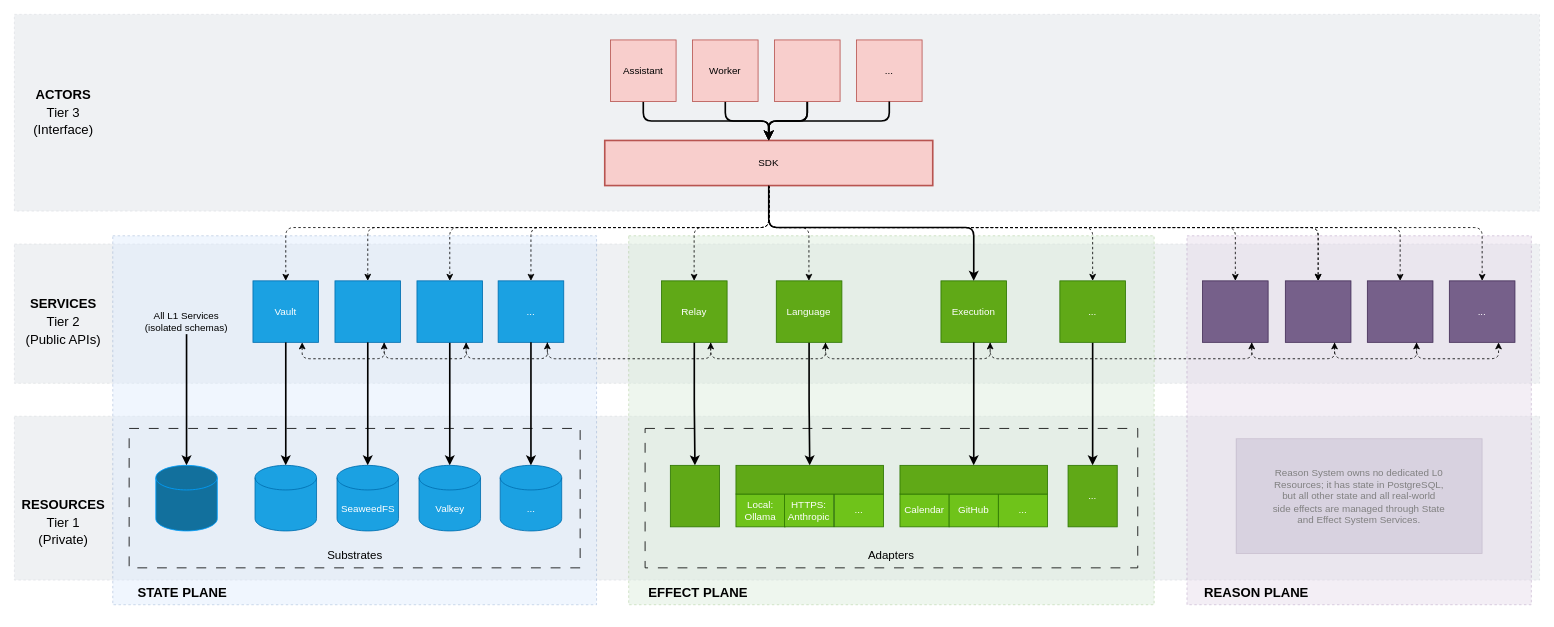
Image size: 1554x627. Some labels were removed from this diagram. Each missing label, with the centre of its shape:
Cache: the point at 449,311
Console: the point at 807,70
Delegation: the point at 1400,311
LLM: the point at 809,479
MCP: the point at 973,479
Object: the point at 367,311
Obsidian: the point at 285,498
Policy: the point at 1318,311
PostgreSQL: the point at 186,498
Recall: the point at 1235,311
Signal: the point at 695,496
